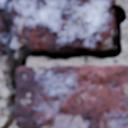brick: (17, 66, 127, 127)
broken_brick: (10, 0, 117, 51), (0, 0, 4, 57)
crack: (1, 0, 127, 127)
